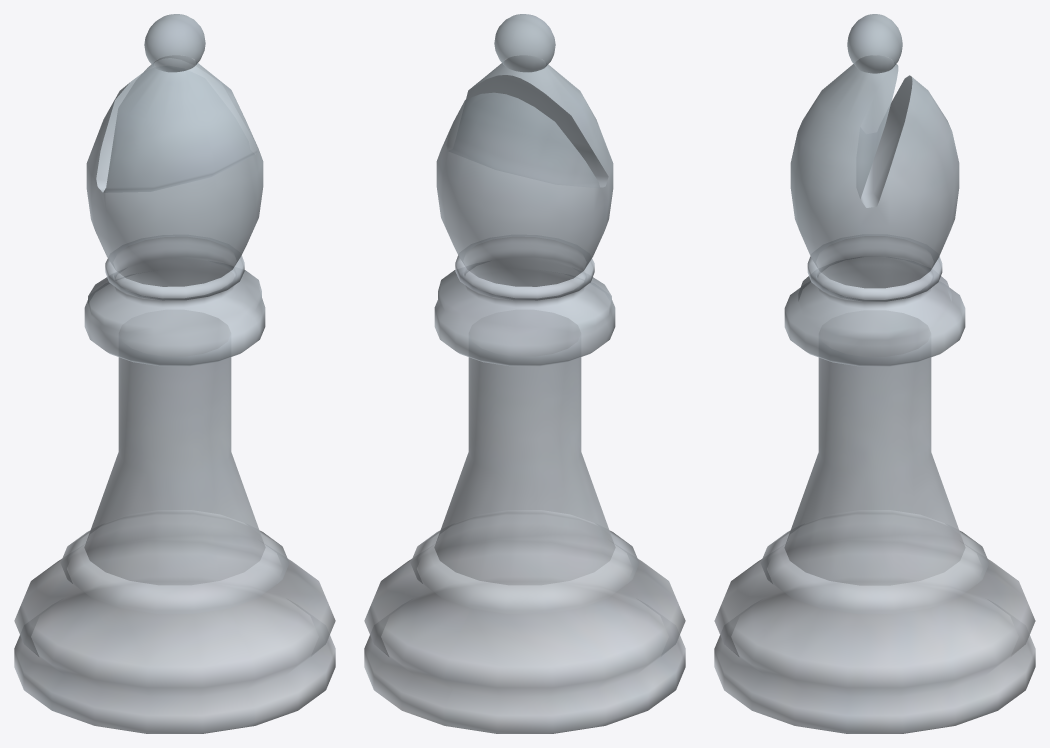
Rendered from Bishop.glb.
The picture shows the model from 3 angles, left to right: view 1: azimuth 30°, elevation 25°; view 2: azimuth 150°, elevation 25°; view 3: azimuth 270°, elevation 25°; orthographic projection.
Parts seen in each view (by area): view 1: Chess_07 - Default_0; view 2: Chess_07 - Default_0; view 3: Chess_07 - Default_0.
Boxes of the visible parts, <box> form: Chess_07 - Default_0: <box>14,14,335,733</box>; Chess_07 - Default_0: <box>364,14,685,733</box>; Chess_07 - Default_0: <box>714,14,1035,733</box>.
Size of the model in its own units: 0.4458 by 1.03 by 0.4527.
1 material, 1 textured.
